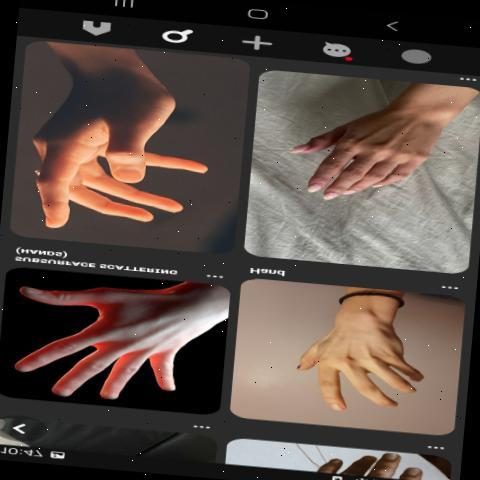Hands: (20, 71, 234, 242), (277, 96, 480, 259), (7, 274, 243, 407), (274, 306, 452, 414)
